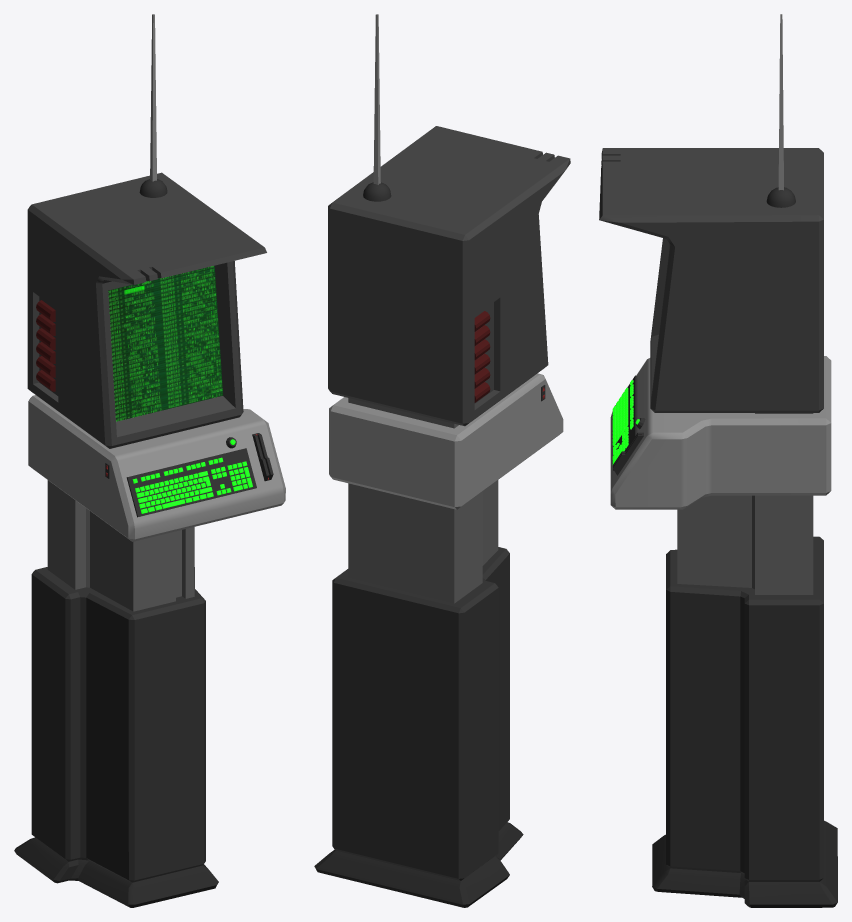
Rendered from scanner_terminal.glb.
The picture shows the model from 3 angles, left to right: view 1: azimuth 30°, elevation 25°; view 2: azimuth 150°, elevation 25°; view 3: azimuth 270°, elevation 25°; orthographic projection. The views are drawn at different scales.
Parts seen in each view (by area): view 1: pCube6, pCube20, console, screen_info, pCube22, pCube13, pCube15; view 2: pCube20, pCube6, console, pCube22, pCube13, pCube15; view 3: pCube20, pCube6, console, pCube22, pCube13, pCube15.
Boxes of the visible parts, x1,y1,x2,y2 form: pCube6: [31, 567, 205, 882]; pCube20: [27, 172, 266, 448]; console: [28, 395, 285, 541]; screen_info: [108, 265, 223, 421]; pCube22: [47, 480, 194, 611]; pCube13: [14, 837, 218, 907]; pCube15: [150, 14, 156, 181]; pCube20: [328, 126, 570, 426]; pCube6: [332, 547, 509, 880]; console: [329, 373, 563, 509]; pCube22: [348, 398, 498, 603]; pCube13: [314, 822, 523, 907]; pCube15: [373, 14, 380, 184]; pCube20: [599, 148, 823, 412]; pCube6: [666, 536, 823, 881]; console: [610, 356, 831, 509]; pCube22: [677, 413, 813, 594]; pCube13: [652, 820, 837, 907]; pCube15: [778, 14, 783, 190].
Bounding box in the file's own units: 24.78 × 116 × 28.77.
Materials: 11 (1 with a texture image).
